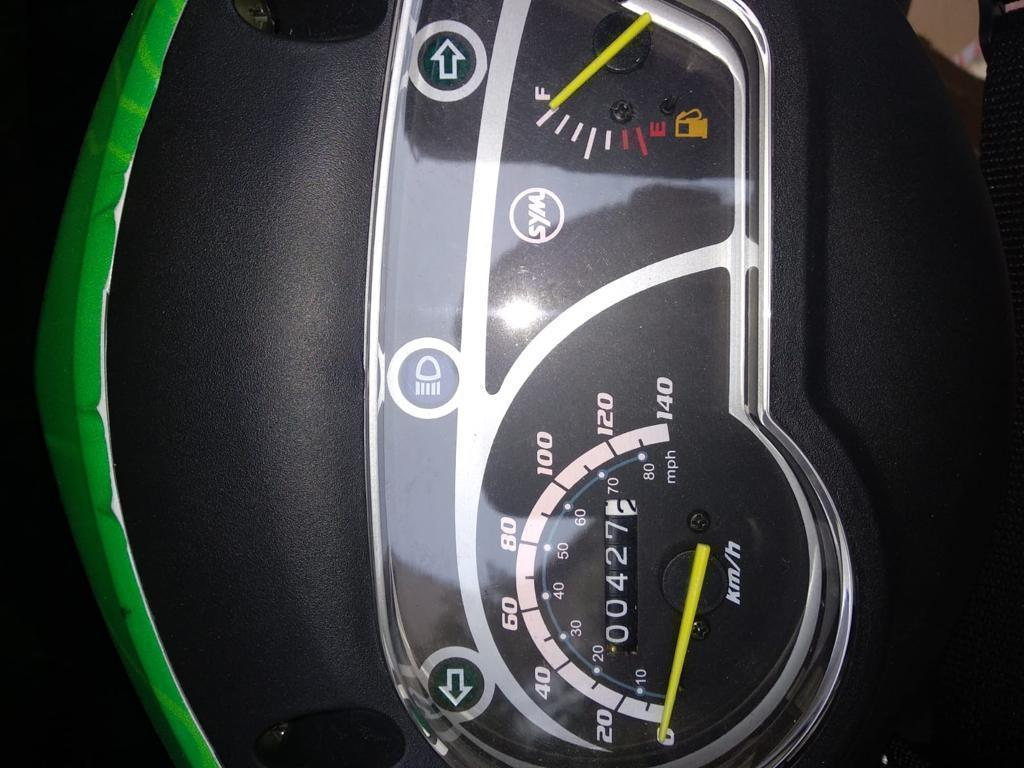0: (601, 600, 631, 619), (604, 622, 630, 642)
2: (602, 545, 629, 567), (614, 497, 637, 515)
4: (601, 571, 629, 593)
7: (602, 519, 628, 540)
odometer: (598, 495, 639, 652)
